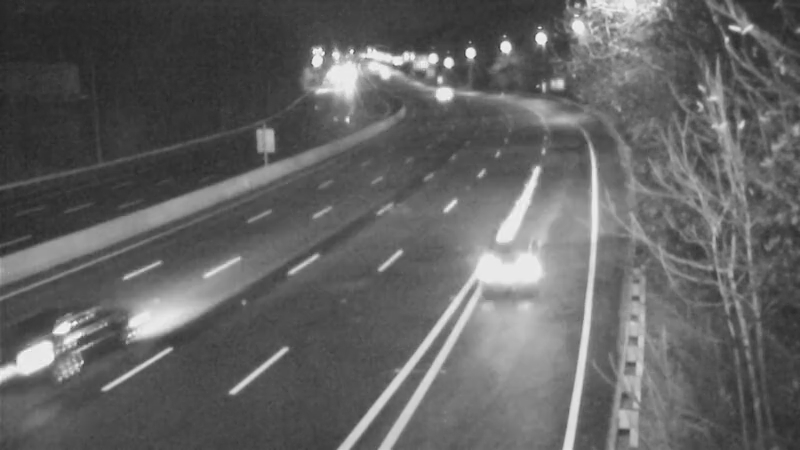vehicle: (18, 284, 128, 394), (466, 233, 546, 313), (411, 66, 461, 116)
